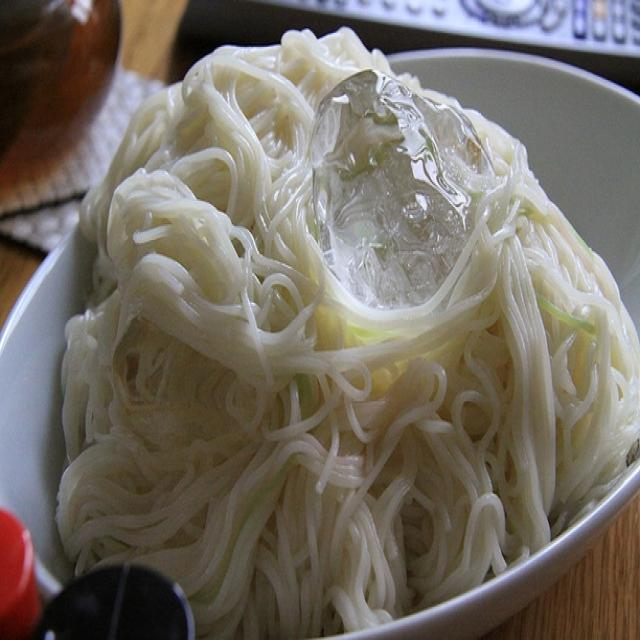面条主食: (20, 17, 629, 618)
